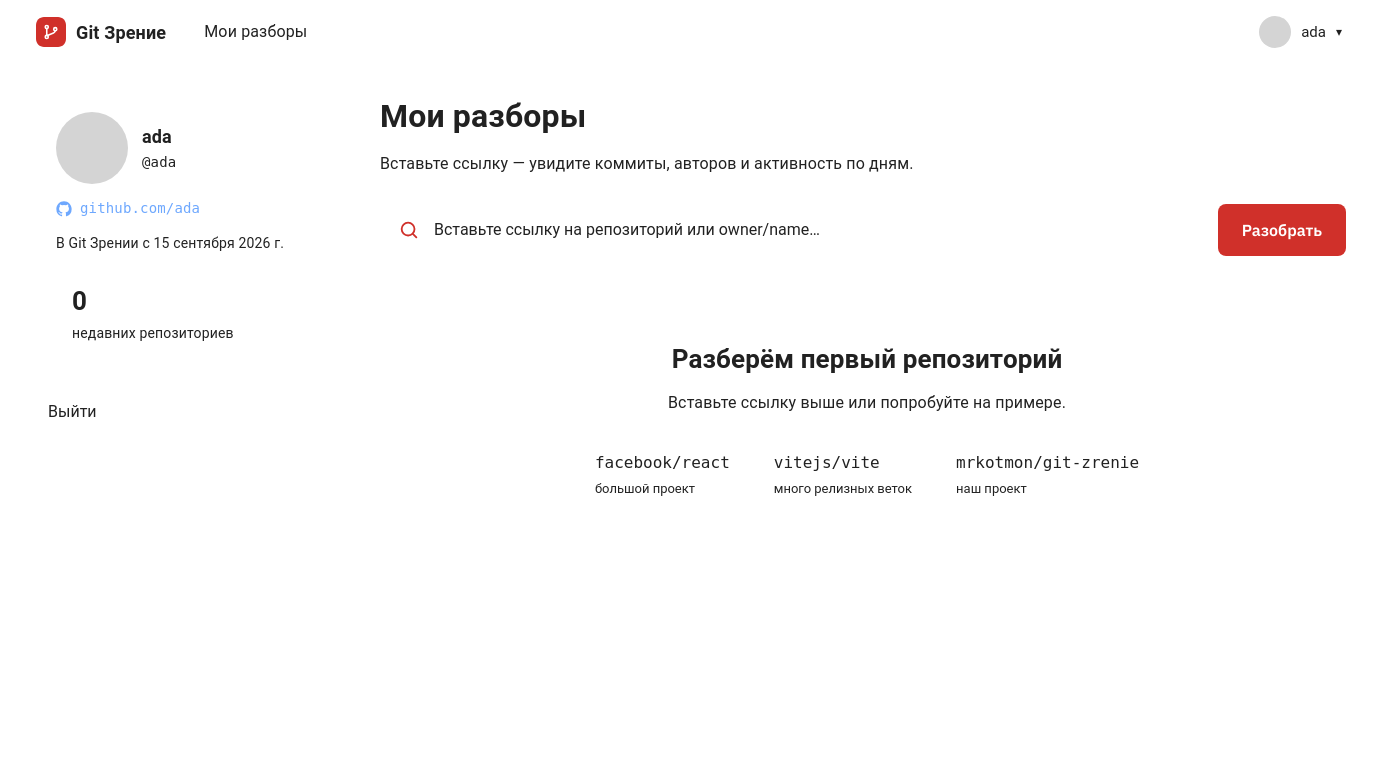
Test: UserMenu › «Выйти» завершает сессию на сервере и ведёт на главную
Click the button with aria-label "Меню пользователя" at (1305, 32), box [1255,12,1354,52]
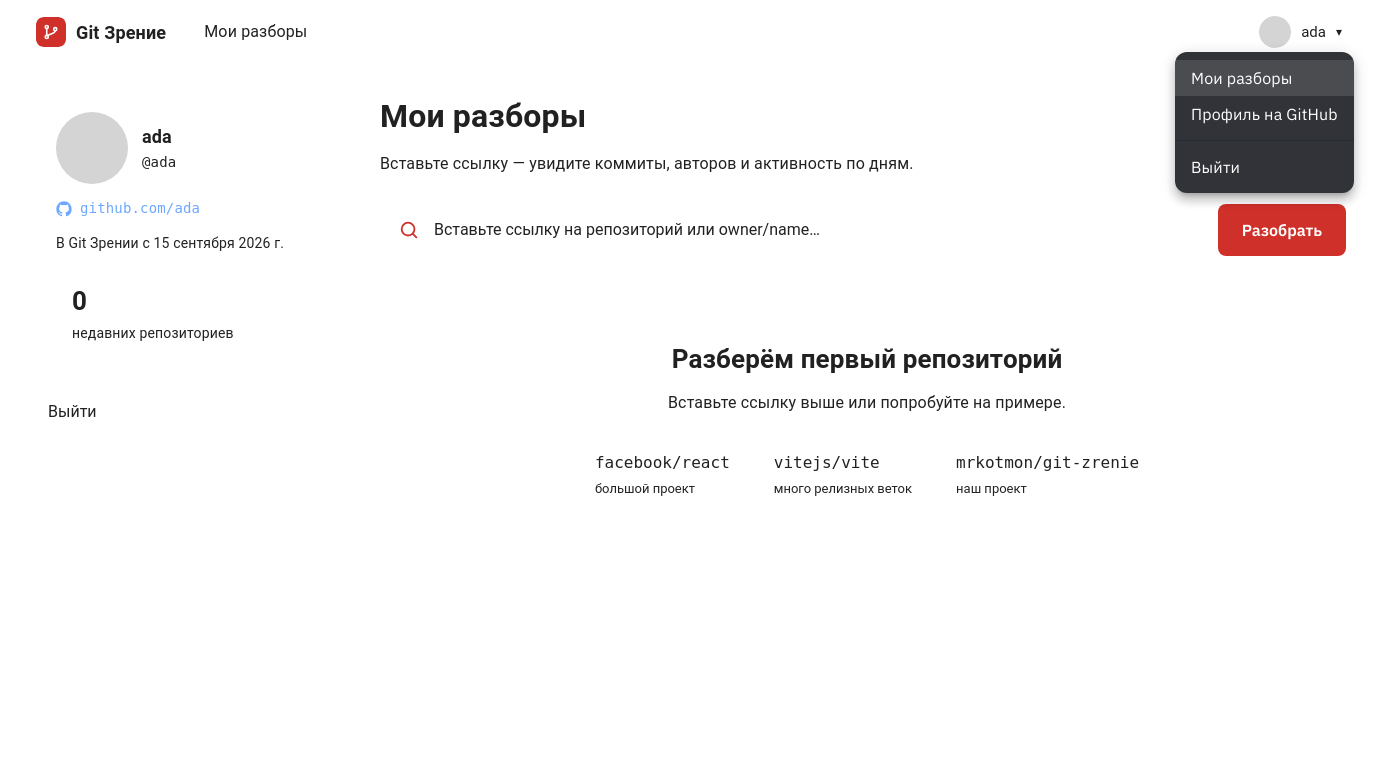
Click the menu item "Выйти" at (1216, 167), box [1191,157,1240,177]
(page scrolled)
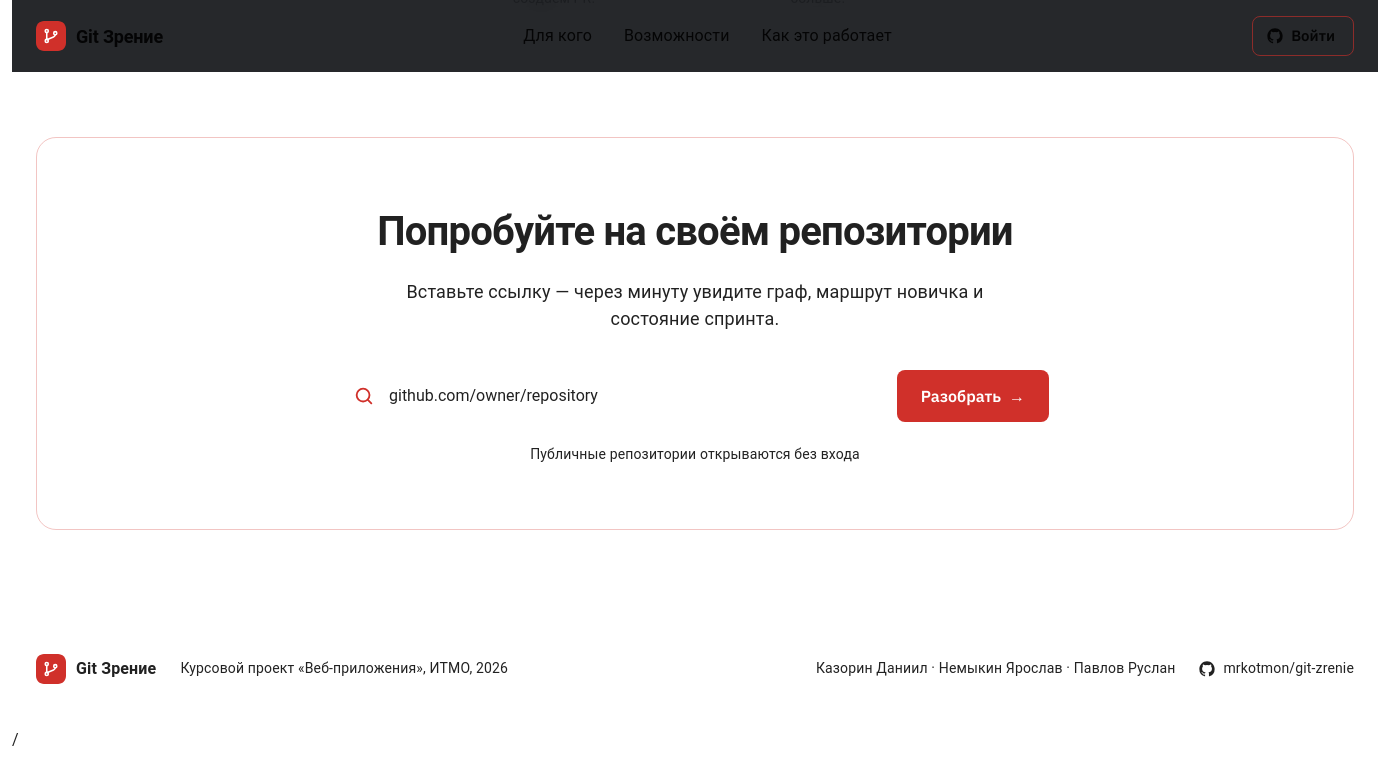
expect the text with test id "path" reads "/": met, box [12,730,19,749]
